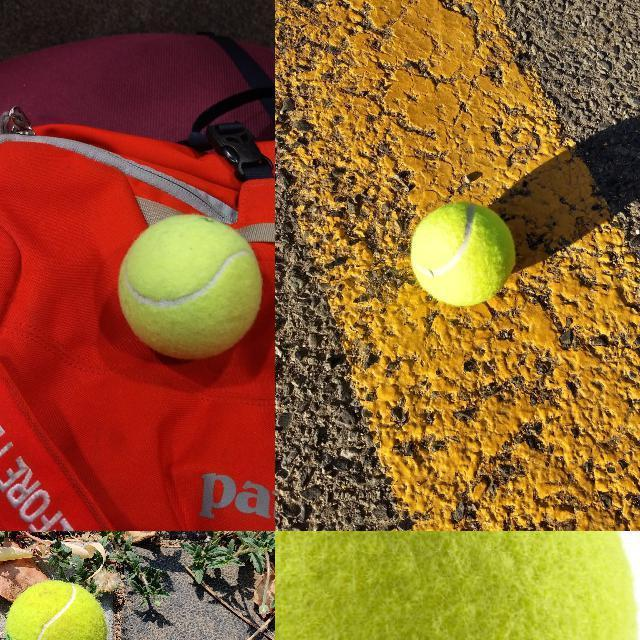tennis-ball: (275, 531, 638, 639), (117, 213, 263, 361), (407, 200, 519, 306), (5, 580, 108, 639)
